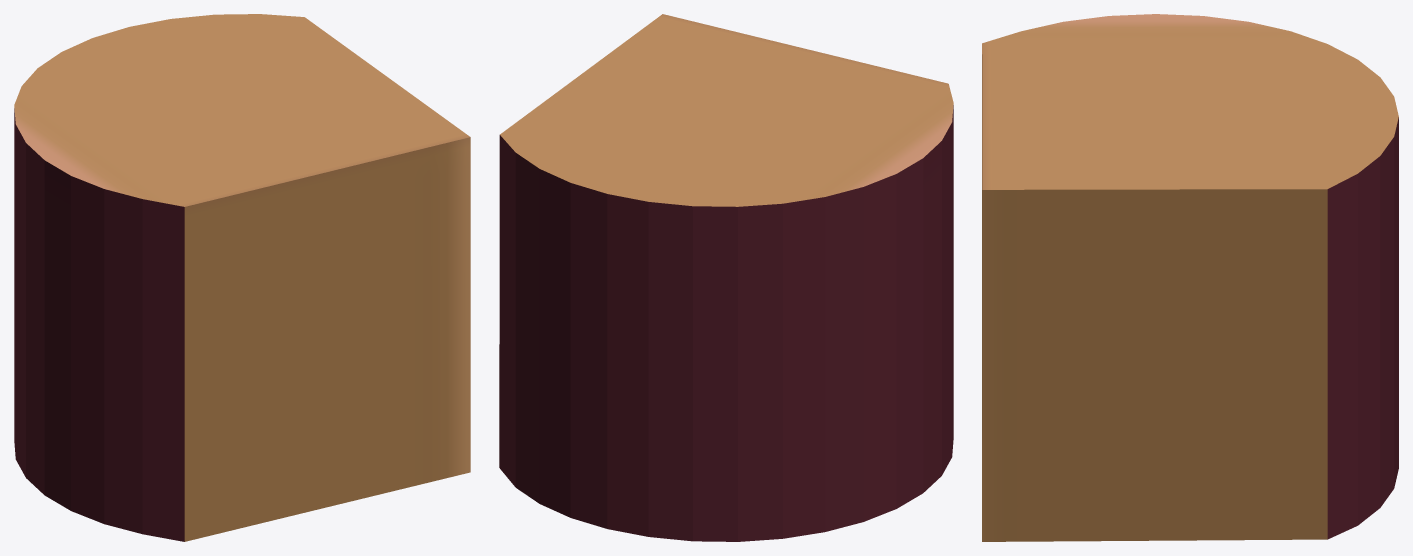
Rendered from cornertree.fbx.
The picture shows the model from 3 angles, left to right: view 1: azimuth 30°, elevation 25°; view 2: azimuth 150°, elevation 25°; view 3: azimuth 270°, elevation 25°; orthographic projection. The views are drawn at different scales.
Visible parts, largest first — view 1: Corner Tree; view 2: Corner Tree; view 3: Corner Tree.
Part boxes in pixels (box(x1,y1,x2,y2)): Corner Tree: box(14, 14, 470, 541); Corner Tree: box(499, 14, 953, 541); Corner Tree: box(982, 14, 1398, 541).
Bounding box in the file's own units: 120 × 112 × 120.
